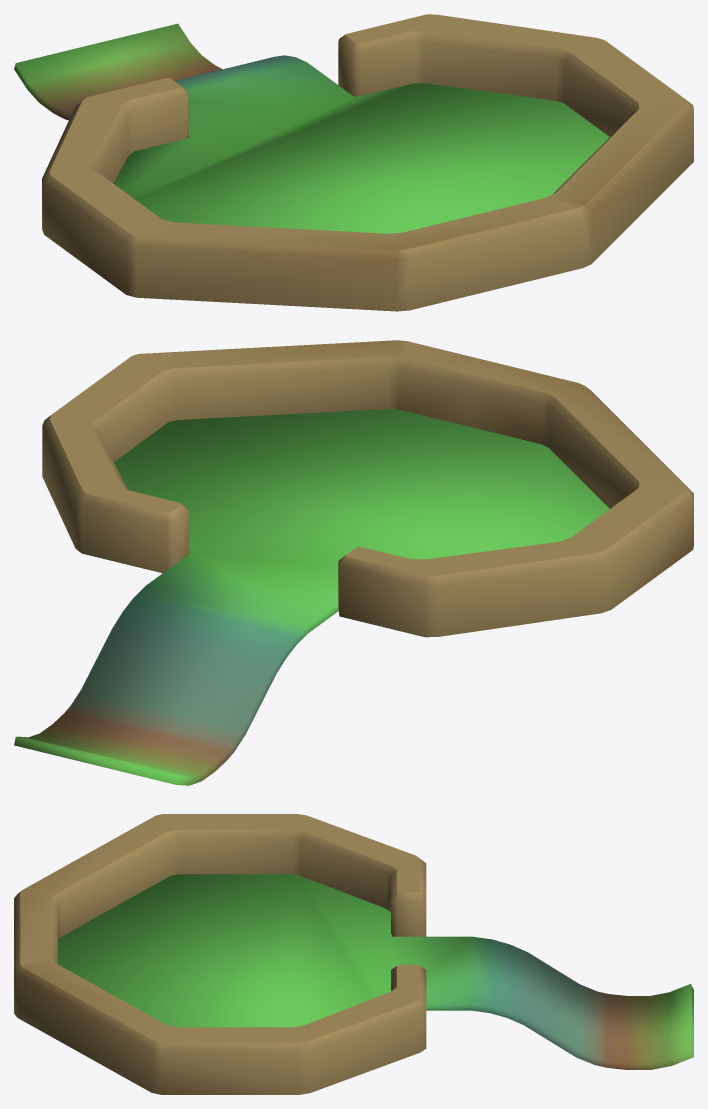
The model's file is debugstage_model.fbx.
The picture shows the model from 3 angles, top to bottom: view 1: azimuth 30°, elevation 25°; view 2: azimuth 150°, elevation 25°; view 3: azimuth 270°, elevation 25°; orthographic projection. The views are drawn at different scales.
Visible parts, largest first — view 1: Rim; view 2: Rim; view 3: Rim.
Boxes of the visible parts, x1,y1,x2,y2 form: Rim: (14,14,693,311); Rim: (14,340,693,785); Rim: (14,814,693,1094).
Size of the model in its own units: 1266 by 272 by 1553.
